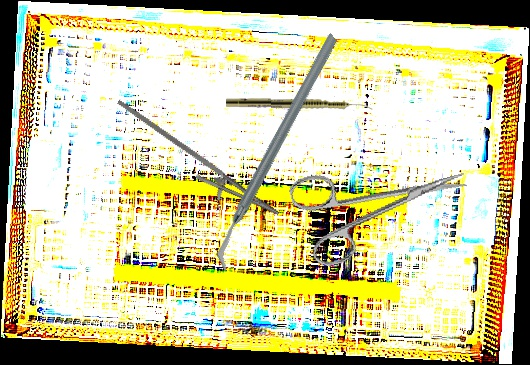Chopper: (149, 32, 406, 273)
Handpiece: (225, 97, 374, 112)
Iris Scissors: (286, 137, 479, 272)
Needle Holder: (99, 99, 291, 229)
